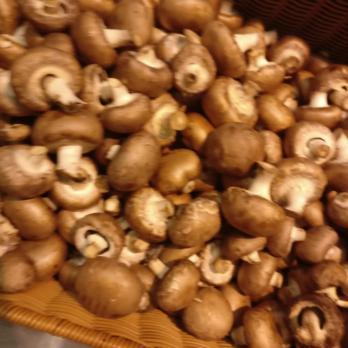Mushroom: (5, 6, 348, 348)
